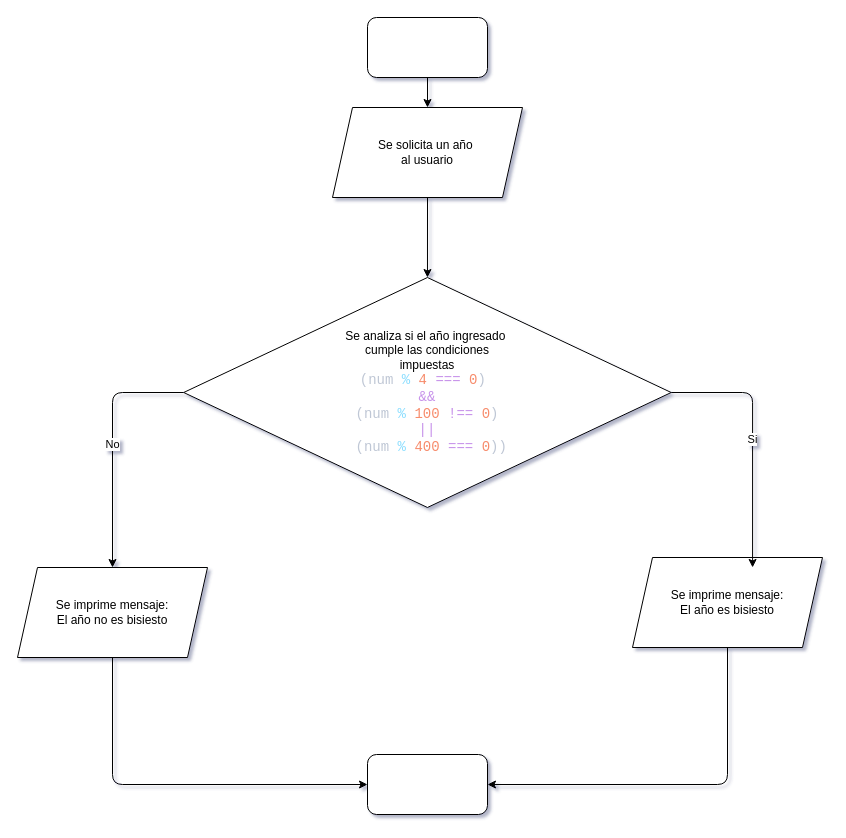
Some shapes in this 846 by 838 pixel diagram are drawn without their labels. The shapes that lost their labels are listed below. From the top down, each one's centre as x and y in pixels, then its label:
[427,47]: Inicio
[427,784]: Fin
